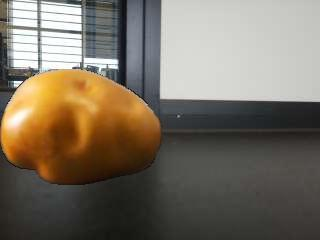Potato: (0, 70, 161, 186)
